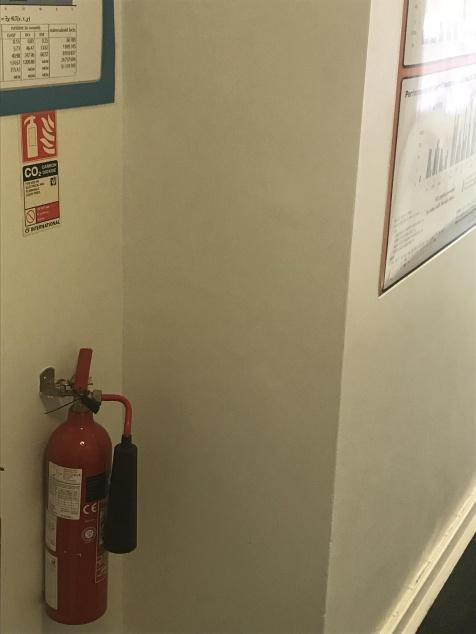APAR: (42, 347, 113, 625)
